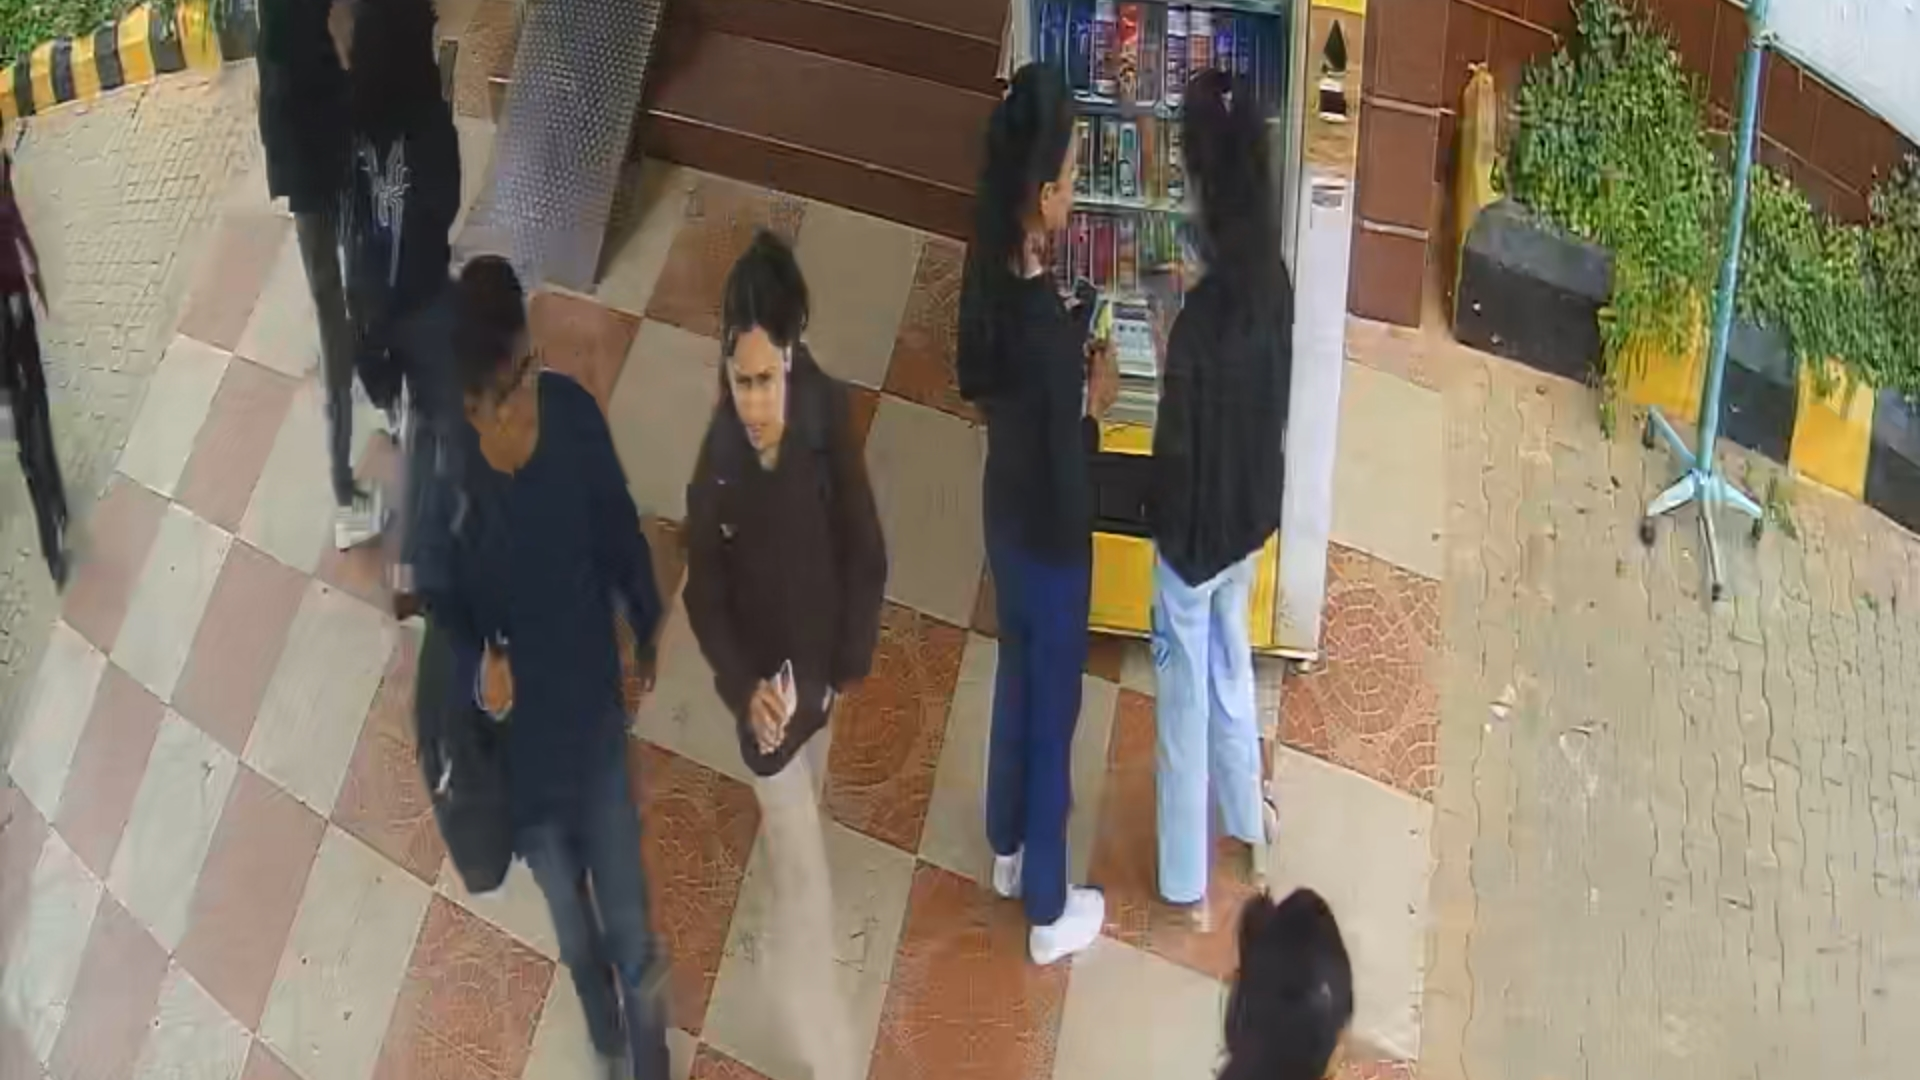intruder: (430, 257, 698, 1080), (676, 237, 920, 1069)
